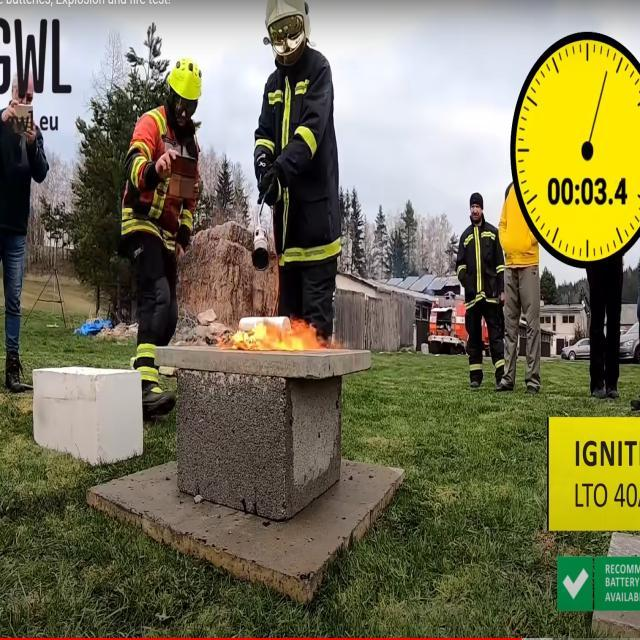Fire: (211, 313, 341, 357)
